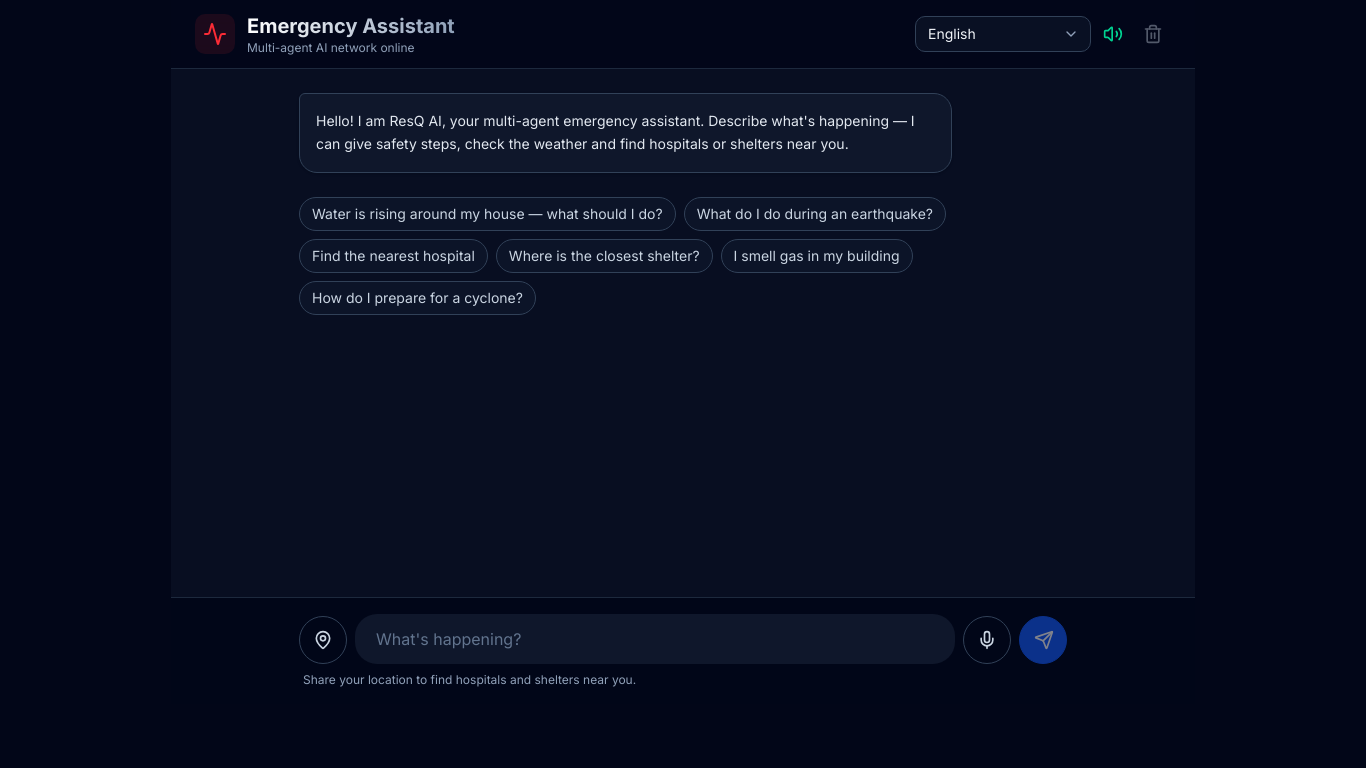
Scenario: ChatView › attaches the location only after the user shares it
Click the button named "Share my location". click: (323, 640)
box: [299,616,347,664]
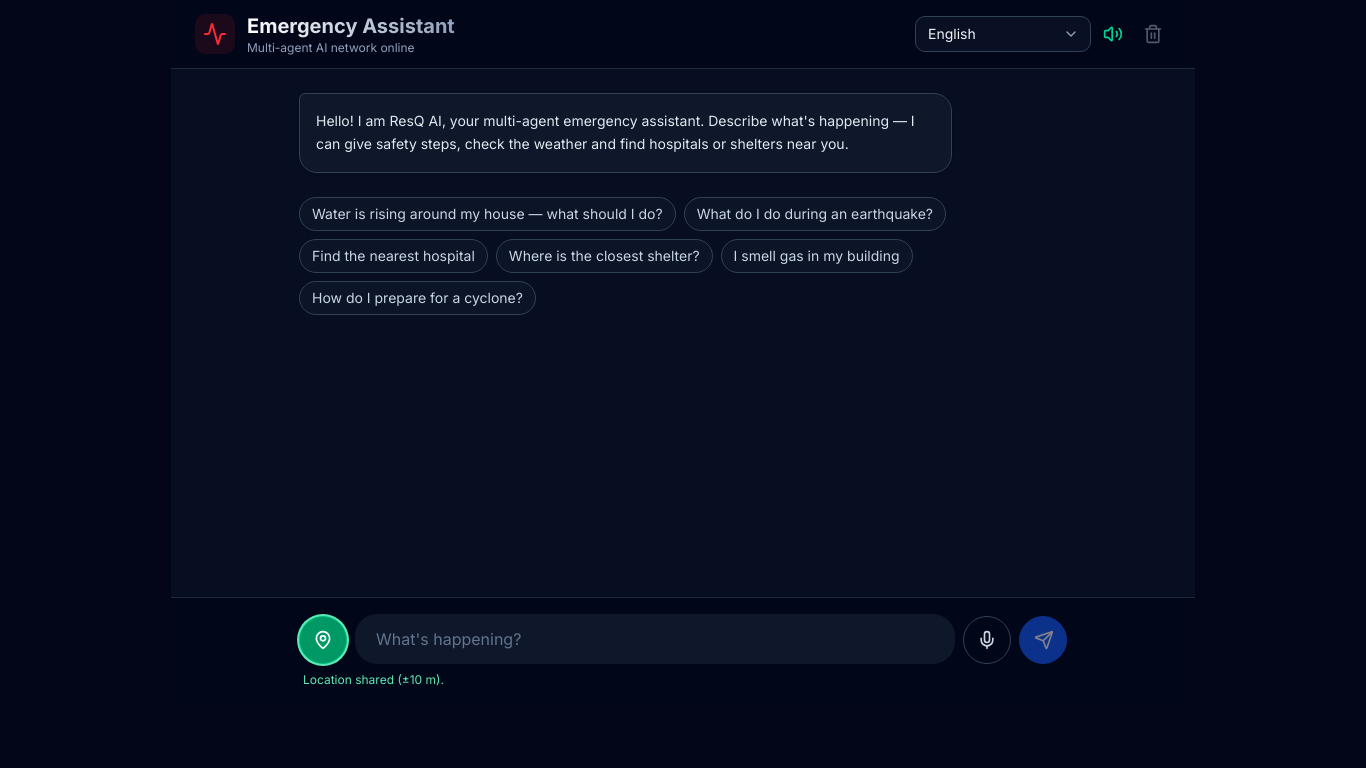
Now the text "Location shared (±10 m)." is shown, box [303,672,444,687]
Click the button "Find the nearest hospital". click: (393, 256)
box: [299,238,488,272]
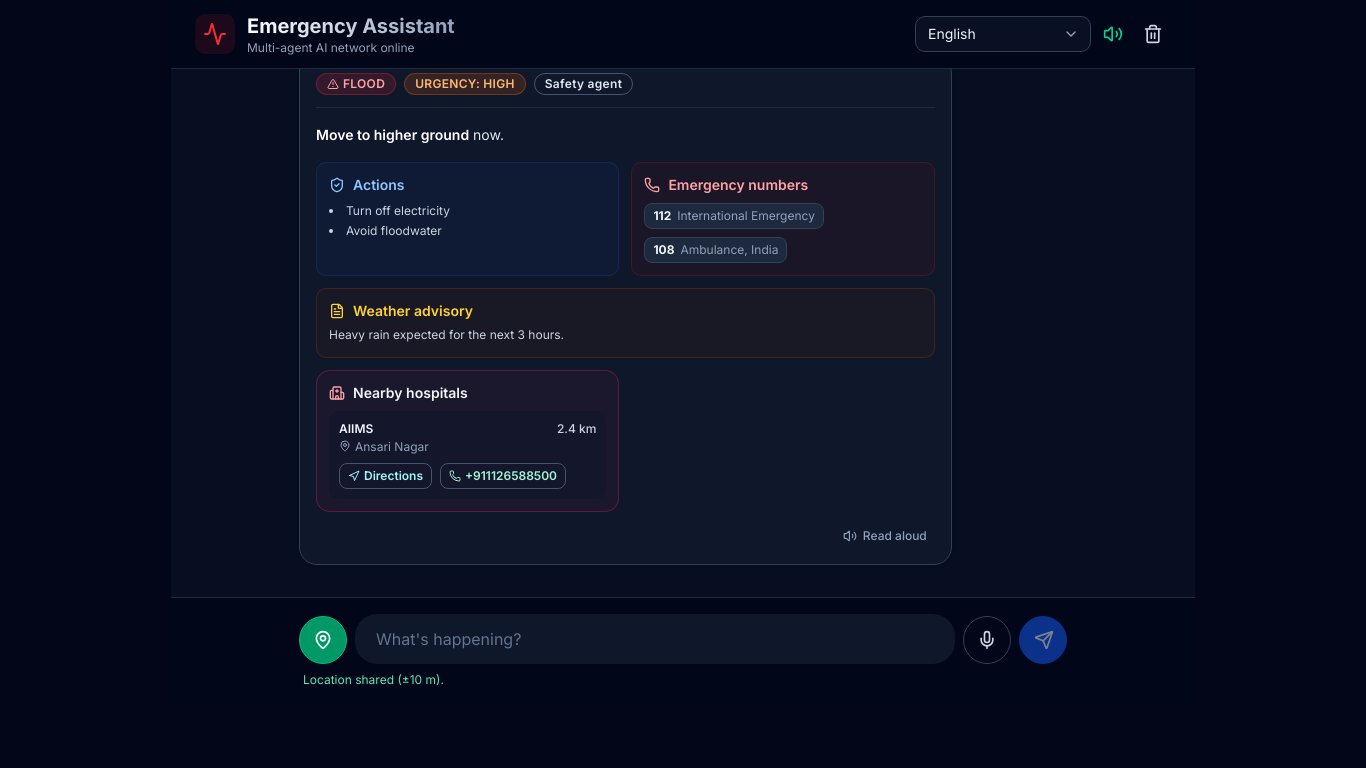
Now the text "Move to higher ground" is shown, box [316,126,469,142]
